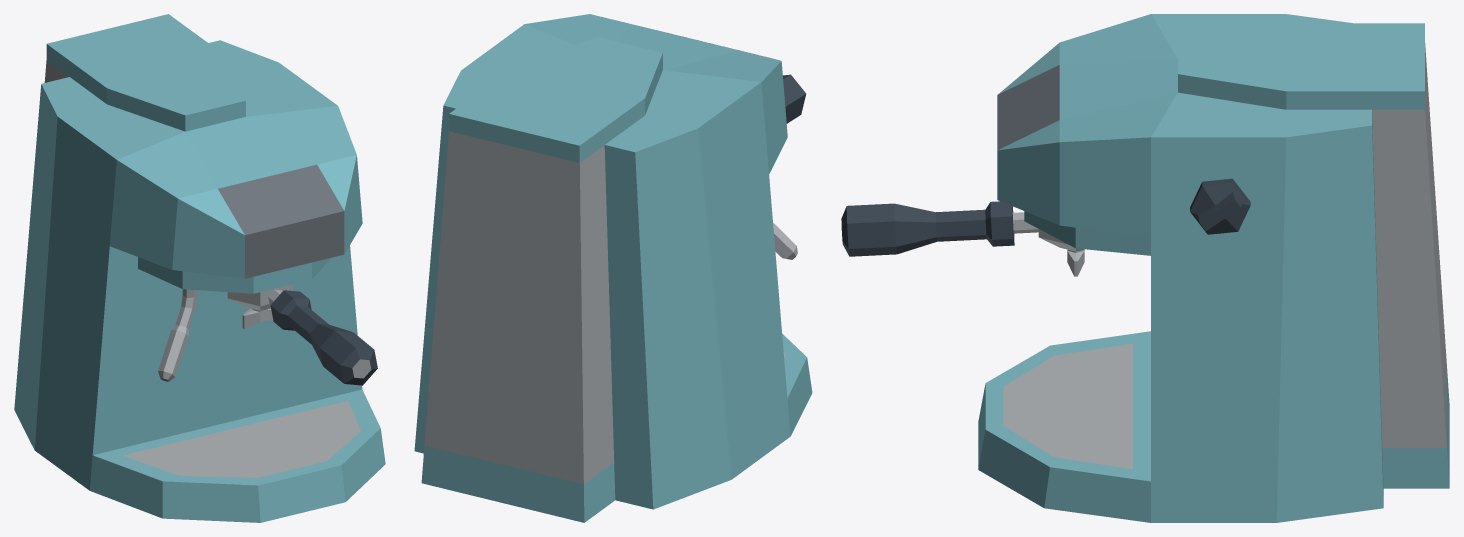
Rendered from Expresso_Machine_SM.FBX.
3 renders of one model, left to right at view 1: azimuth 30°, elevation 25°; view 2: azimuth 150°, elevation 25°; view 3: azimuth 270°, elevation 25°, orthographic. The views are drawn at different scales.
Parts seen in each view (by area): view 1: ExpressoMachine_Sm; view 2: ExpressoMachine_Sm; view 3: ExpressoMachine_Sm.
Boxes of the visible parts, <box> form: ExpressoMachine_Sm: <box>14,14,385,522</box>; ExpressoMachine_Sm: <box>414,14,812,522</box>; ExpressoMachine_Sm: <box>841,14,1449,522</box>.
Size of the model in its own units: 59.56 by 70.17 by 99.42.
